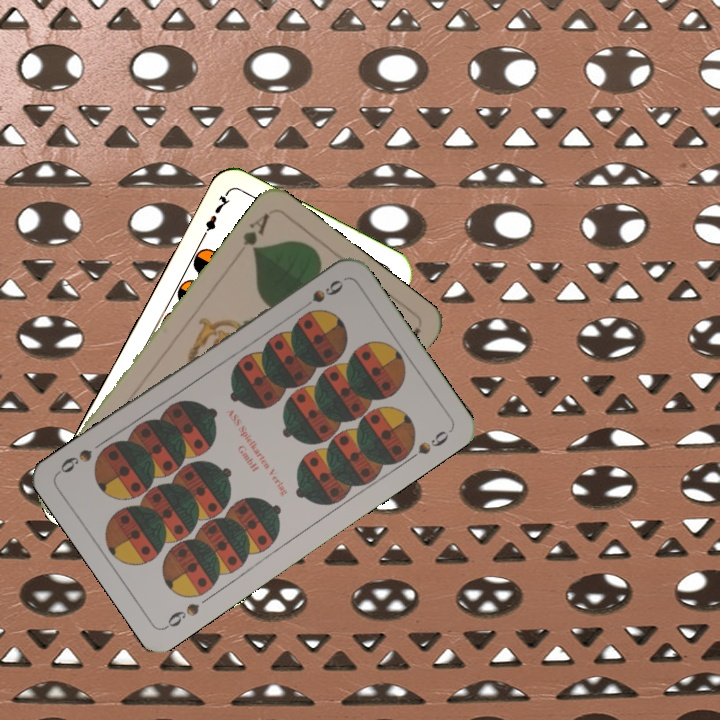E7: (196, 190, 233, 244)
GA: (238, 208, 273, 255)
S9: (294, 275, 346, 315), (161, 598, 202, 632)
